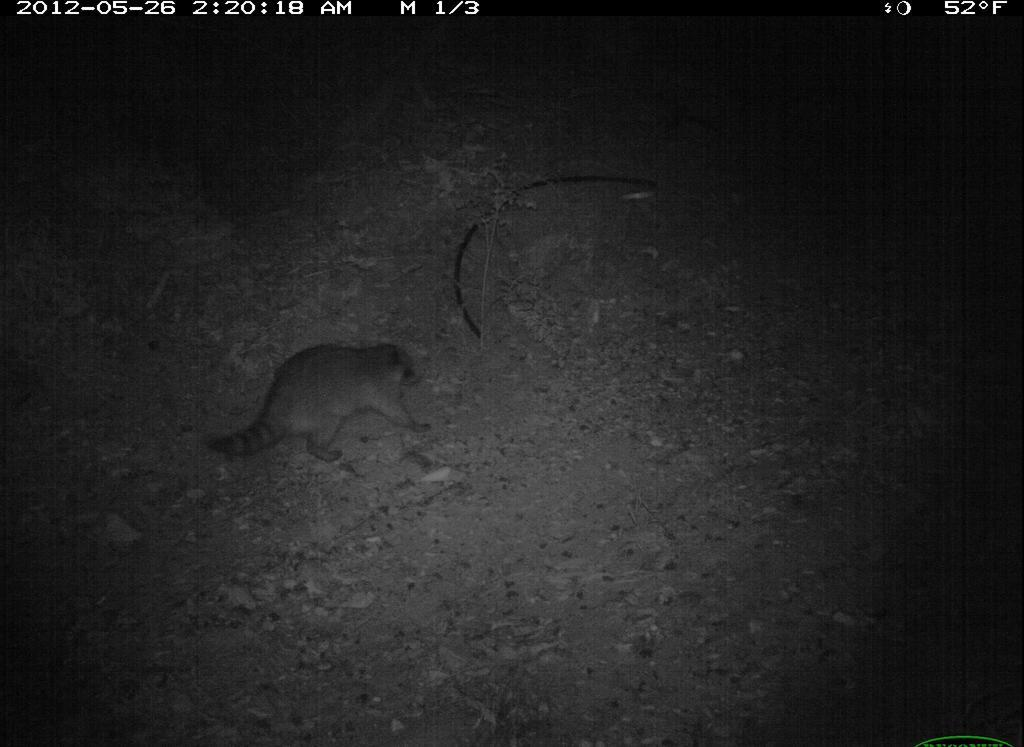raccoon: (204, 333, 441, 470)
